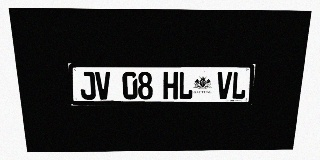0: (122, 72, 138, 100)
8: (138, 72, 153, 99)
H: (163, 72, 178, 99)
J: (79, 72, 96, 100)
L: (231, 72, 247, 99), (178, 72, 193, 99)
V: (95, 72, 111, 100), (216, 72, 232, 99)
